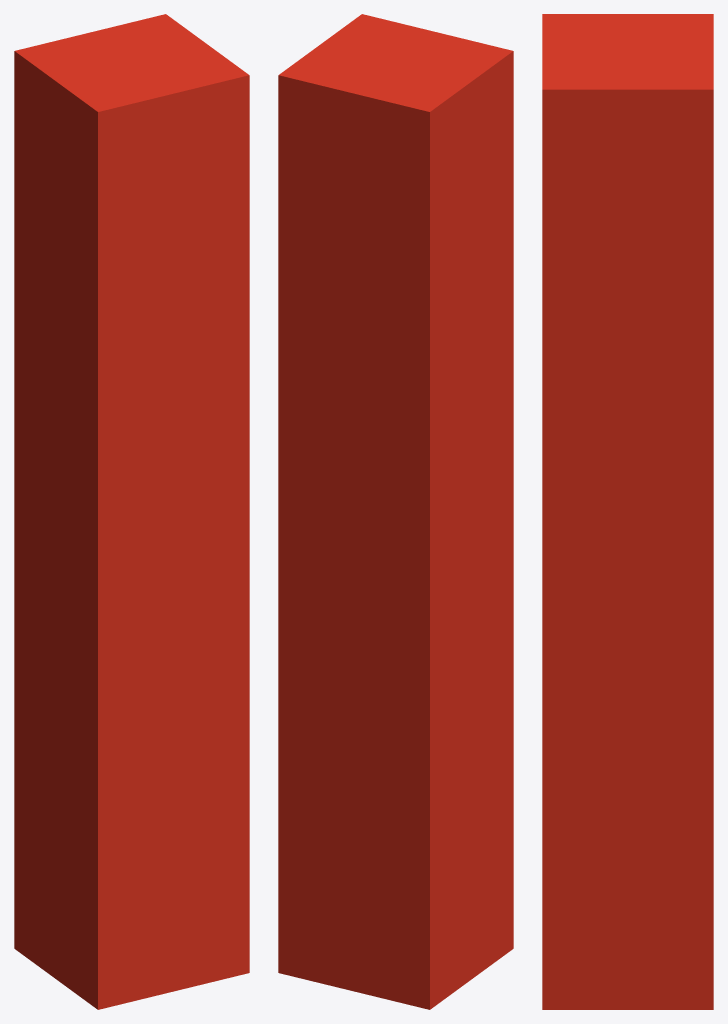
The model's file is Icon_Letter_I.fbx.
The picture shows the model from 3 angles, left to right: view 1: azimuth 30°, elevation 25°; view 2: azimuth 150°, elevation 25°; view 3: azimuth 270°, elevation 25°; orthographic projection. The views are drawn at different scales.
Parts seen in each view (by area): view 1: Icon_Letter_I; view 2: Icon_Letter_I; view 3: Icon_Letter_I.
Boxes of the visible parts, x1,y1,x2,y2 form: Icon_Letter_I: (14, 14, 249, 1009); Icon_Letter_I: (278, 14, 513, 1009); Icon_Letter_I: (542, 14, 713, 1009).
Size of the model in its own units: 12.62 by 71.49 by 12.06.
